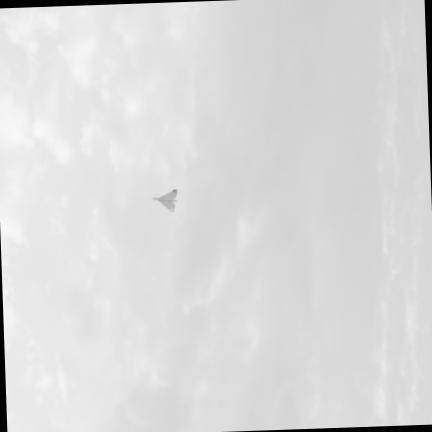Shahed: (151, 188, 178, 212)
